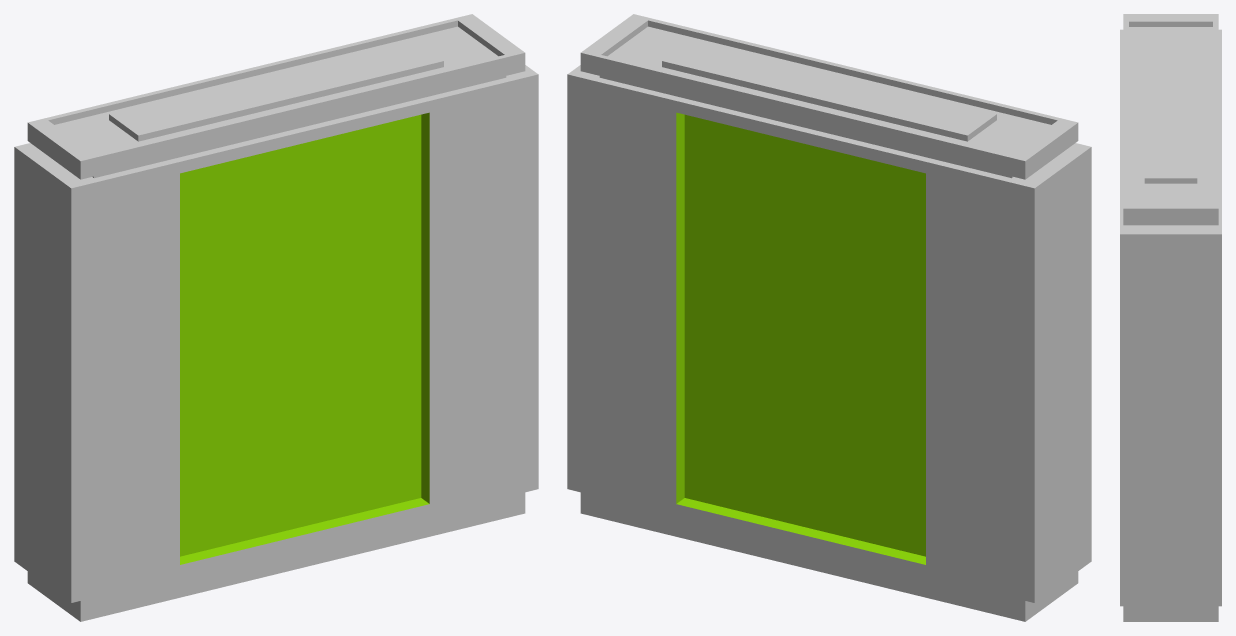
File: PredioTelao.fbx
The picture shows the model from 3 angles, left to right: view 1: azimuth 30°, elevation 25°; view 2: azimuth 150°, elevation 25°; view 3: azimuth 270°, elevation 25°; orthographic projection. The views are drawn at different scales.
Parts seen in each view (by area): view 1: Highrise_4; view 2: Highrise_4; view 3: Highrise_4.
Part boxes in pixels (<box>): Highrise_4: <box>14,14,538,621</box>; Highrise_4: <box>567,14,1091,621</box>; Highrise_4: <box>1120,14,1221,621</box>.
Size of the model in its own units: 506 by 477 by 107.
